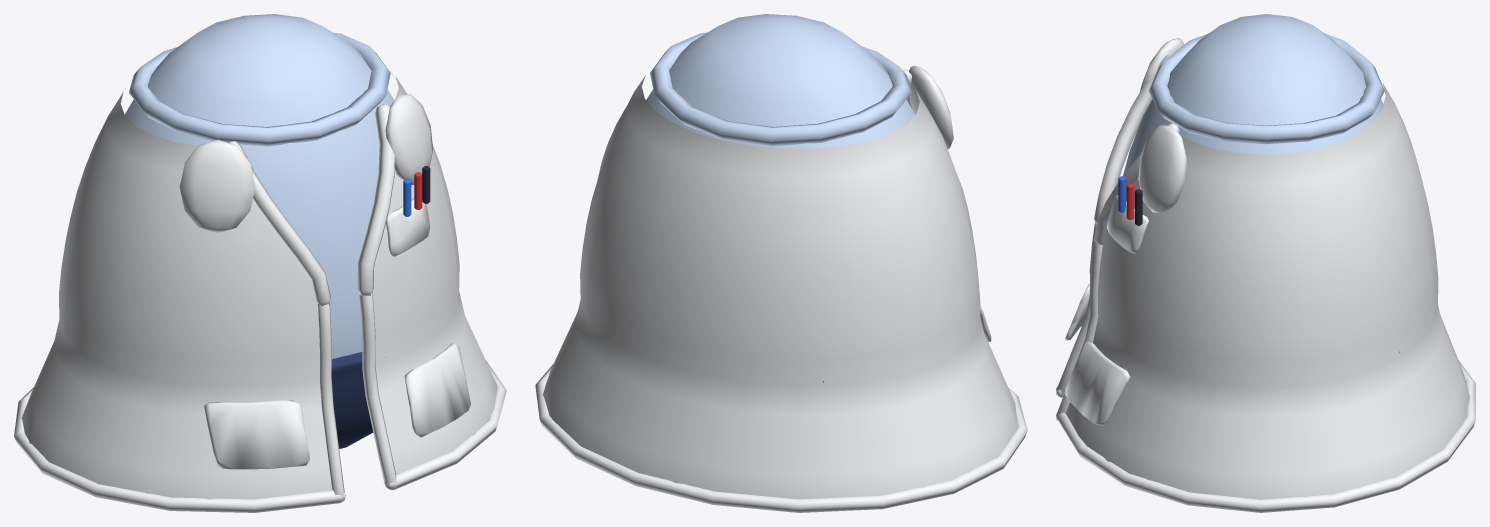
File: char_torso_labcoat.glb
The picture shows the model from 3 angles, left to right: view 1: azimuth 30°, elevation 25°; view 2: azimuth 150°, elevation 25°; view 3: azimuth 270°, elevation 25°; orthographic projection. The views are drawn at different scales.
Parts seen in each view (by area): view 1: char_torso_labcoat, Chest; view 2: char_torso_labcoat, Chest; view 3: char_torso_labcoat, Chest.
Boxes of the visible parts, bbox=[...] form: char_torso_labcoat: bbox=[14, 214, 506, 512]; Chest: bbox=[65, 14, 452, 307]; char_torso_labcoat: bbox=[535, 223, 1027, 512]; Chest: bbox=[586, 14, 973, 307]; char_torso_labcoat: bbox=[1056, 223, 1475, 512]; Chest: bbox=[1094, 14, 1432, 310].
Bounding box in the file's own units: 0.6441 × 0.569 × 0.5437.
